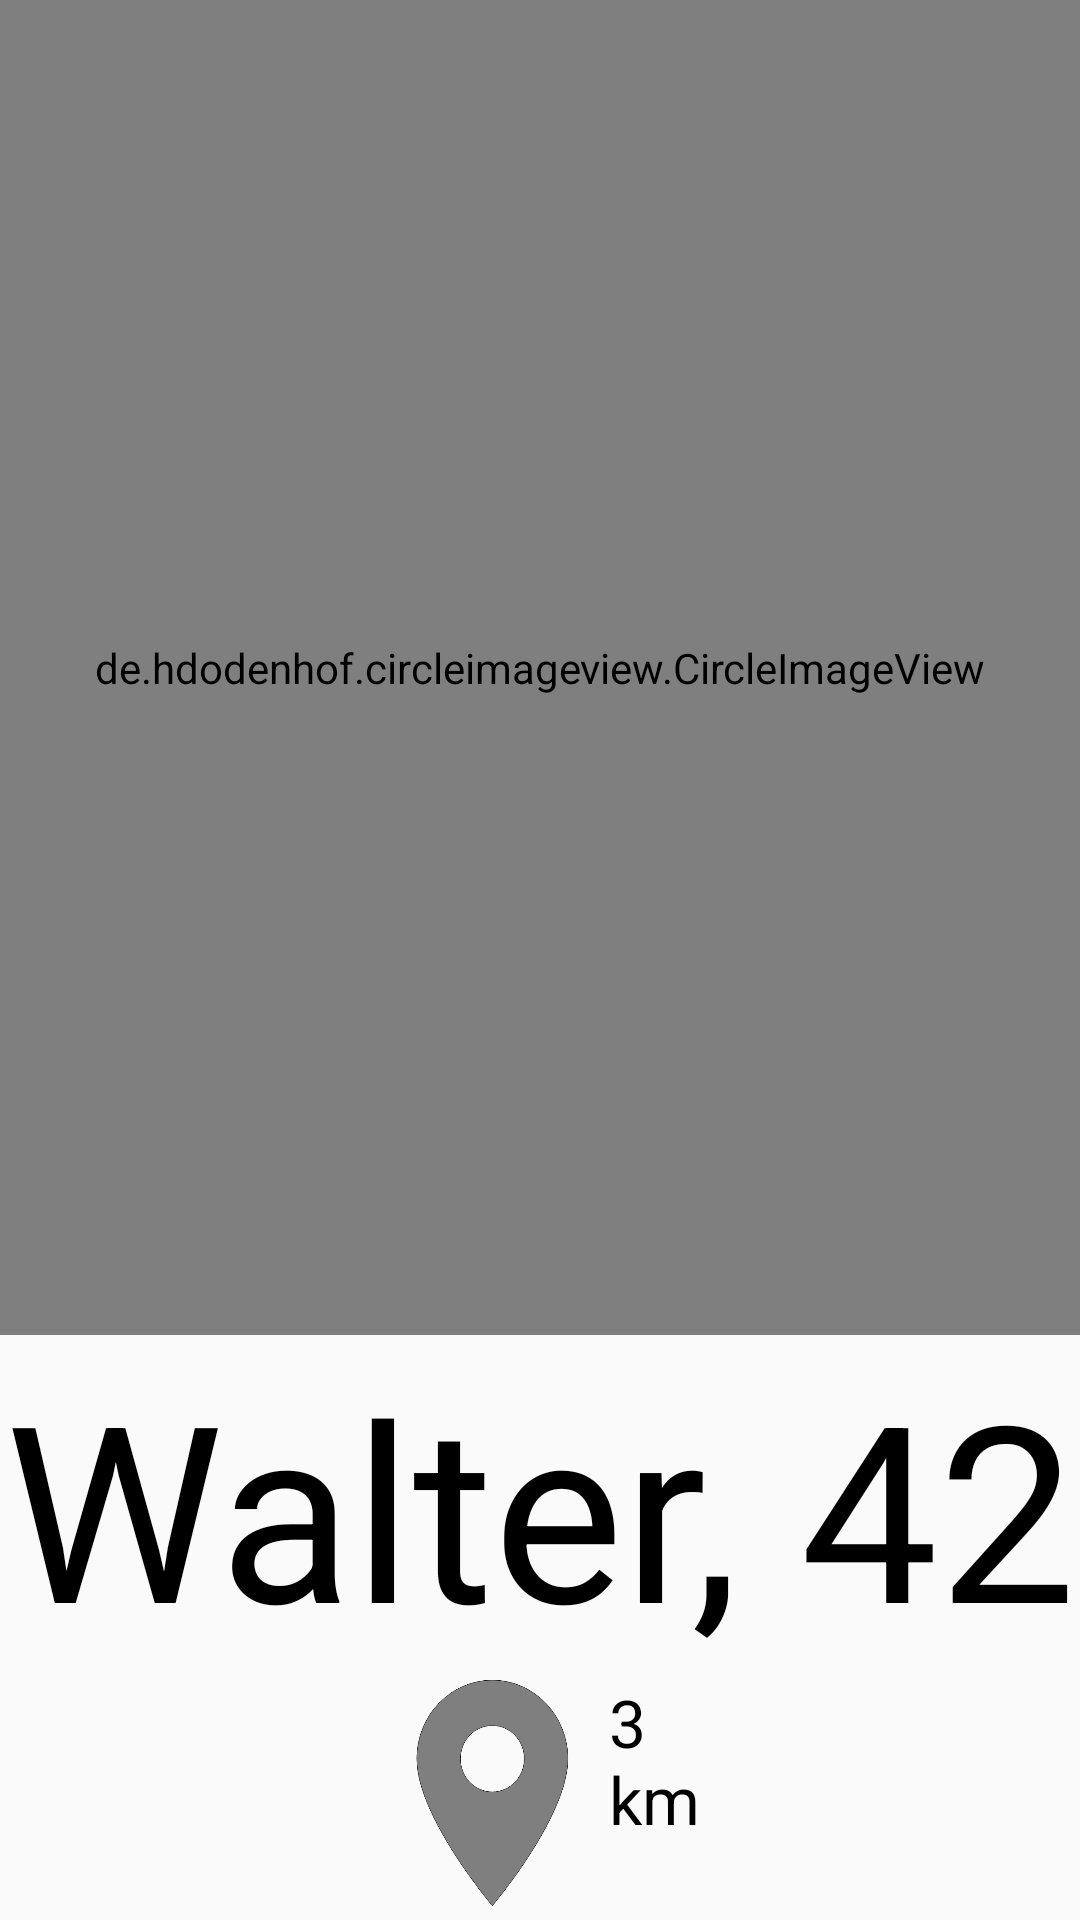

Where icons sit on this 1080*1920 app screen, as (x1, y1, x2, y2):
location: (416, 1680, 568, 1906)
